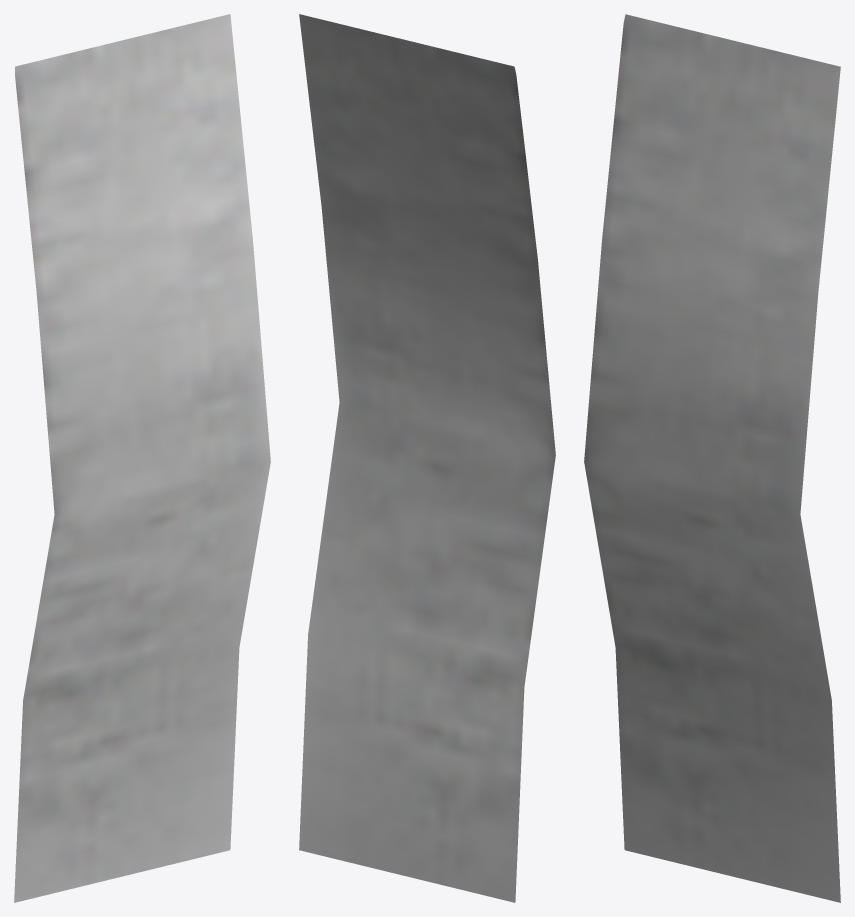
The model's file is gauze.FBX.
3 views of the same model, side by side, from view 1: azimuth 30°, elevation 25°; view 2: azimuth 150°, elevation 25°; view 3: azimuth 330°, elevation 25° (orthographic).
Parts seen in each view (by area): view 1: gauze; view 2: gauze; view 3: gauze.
Part boxes in pixels (x1=…): gauze: x1=14, y1=14, x2=270, y2=902; gauze: x1=299, y1=14, x2=555, y2=902; gauze: x1=584, y1=14, x2=840, y2=902.
Size of the model in its own units: 7.87 by 29.08 by 2.55.
